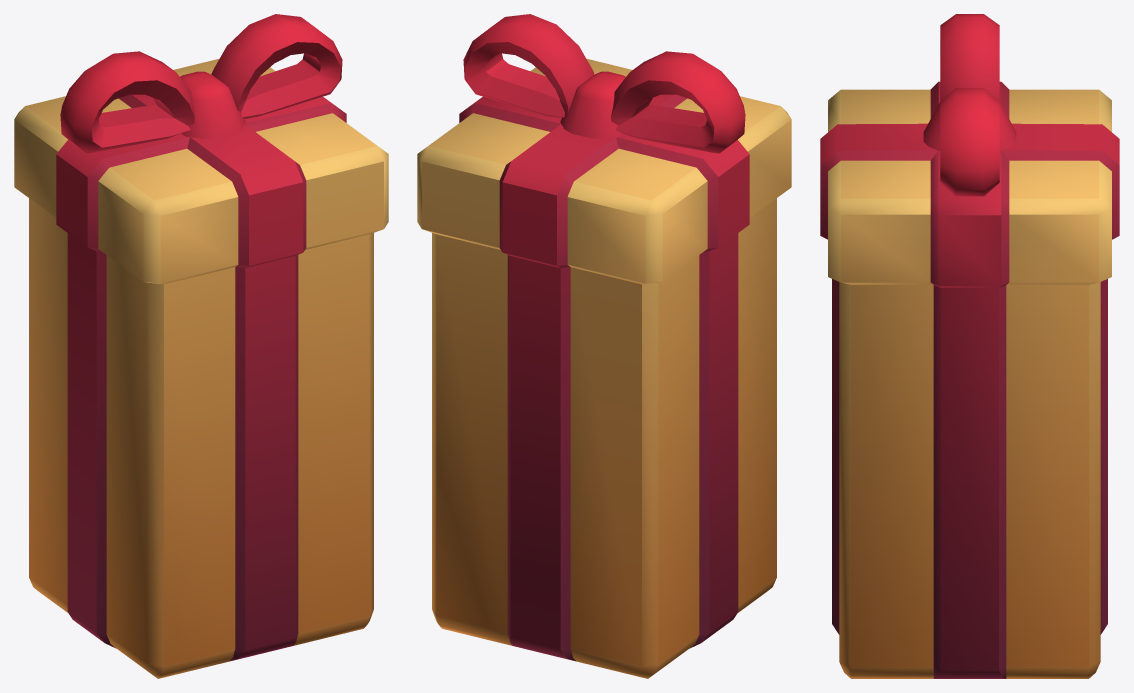
The model's file is present_B_yellow.obj.
3 views of the same model, side by side, from view 1: azimuth 30°, elevation 25°; view 2: azimuth 150°, elevation 25°; view 3: azimuth 270°, elevation 25° (orthographic).
Visible parts, largest first — view 1: present_B_yellow; view 2: present_B_yellow; view 3: present_B_yellow.
Part boxes in pixels (box(x1,y1,x2,y2)): present_B_yellow: box(14, 14, 388, 678); present_B_yellow: box(417, 14, 791, 678); present_B_yellow: box(820, 14, 1119, 678).
Bounding box in the file's own units: 0.5215 × 1.06 × 0.5038.
Materials: 1 (1 with a texture image).
